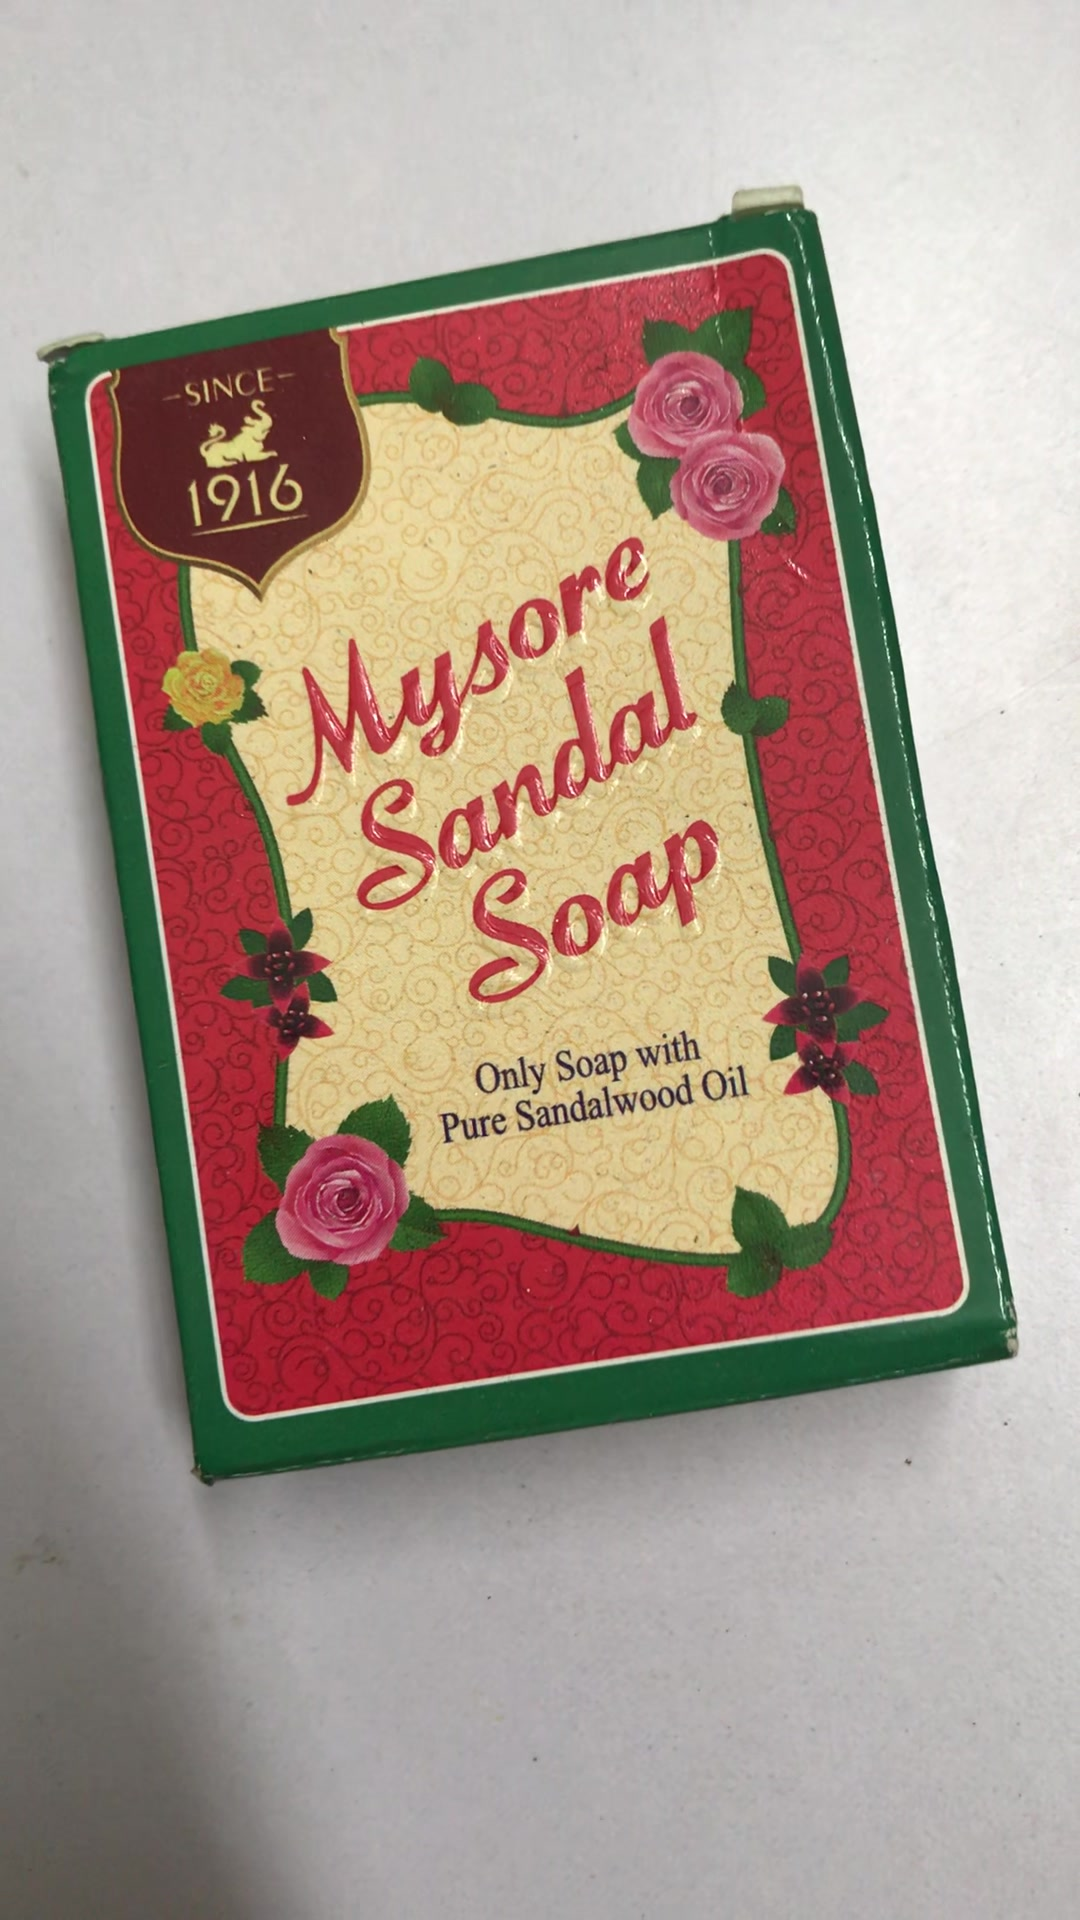mysore sandal soap: (47, 208, 1025, 1487)
